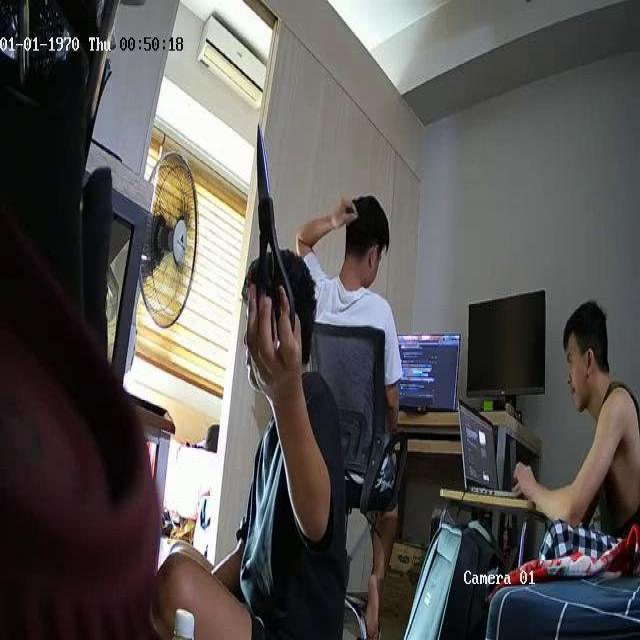scissor: (254, 123, 296, 342)
